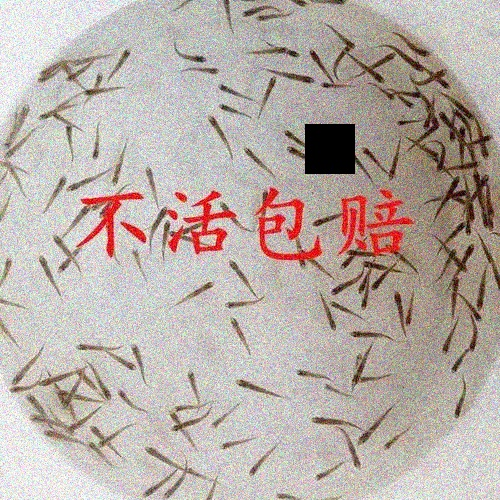fry: (233, 375, 288, 405), (167, 275, 219, 305), (285, 142, 327, 178), (206, 110, 237, 158), (240, 142, 274, 184), (225, 255, 262, 293), (49, 381, 80, 423), (36, 252, 62, 300), (309, 412, 362, 434), (388, 284, 408, 342), (218, 197, 250, 233), (449, 378, 474, 423), (42, 174, 70, 214), (266, 65, 319, 86), (225, 317, 255, 354), (138, 163, 159, 215), (349, 328, 406, 347), (405, 287, 428, 334), (219, 1, 243, 46), (340, 145, 367, 185), (328, 295, 364, 324), (90, 368, 118, 405), (42, 424, 85, 448), (473, 267, 495, 313), (107, 139, 128, 187), (345, 432, 369, 474), (403, 31, 435, 62), (210, 79, 255, 101), (249, 448, 282, 478), (53, 228, 79, 266), (167, 44, 213, 65), (169, 227, 209, 251), (218, 296, 268, 315), (395, 42, 425, 73), (116, 384, 145, 416), (308, 41, 333, 78), (386, 140, 407, 184), (128, 242, 151, 282), (110, 42, 134, 80), (61, 120, 81, 165), (85, 122, 108, 161), (355, 418, 388, 445), (292, 238, 313, 280), (141, 445, 176, 470), (146, 204, 170, 240), (53, 388, 101, 406), (395, 47, 425, 75), (134, 473, 165, 500), (358, 141, 385, 172), (210, 404, 242, 430), (6, 169, 31, 202), (359, 256, 398, 277), (164, 470, 191, 500), (446, 275, 464, 320), (307, 209, 345, 230), (260, 76, 282, 112), (319, 297, 339, 336), (250, 40, 291, 59), (213, 100, 250, 121), (465, 317, 486, 354), (309, 251, 334, 282), (182, 366, 201, 406), (87, 437, 110, 470), (9, 357, 37, 384), (418, 60, 446, 87), (349, 351, 367, 393), (366, 49, 397, 73), (382, 430, 413, 454), (202, 473, 229, 500), (37, 102, 75, 121), (292, 365, 334, 382), (1, 318, 23, 350), (480, 195, 499, 232), (329, 21, 356, 47), (49, 112, 84, 132), (282, 126, 315, 147), (437, 327, 458, 360), (390, 246, 420, 269), (73, 390, 109, 409), (253, 9, 291, 27), (477, 127, 495, 165), (178, 64, 223, 79), (158, 218, 173, 262), (168, 421, 212, 436), (38, 371, 79, 387), (4, 137, 31, 161), (99, 428, 133, 447), (355, 372, 398, 387), (61, 63, 84, 91), (79, 85, 137, 96), (343, 246, 388, 260), (446, 218, 467, 248), (463, 199, 481, 234), (254, 187, 273, 220), (416, 121, 441, 146), (76, 370, 100, 396), (220, 437, 259, 453), (358, 62, 385, 85), (112, 354, 140, 376), (321, 78, 355, 96), (25, 414, 68, 428), (169, 221, 209, 236), (71, 341, 117, 354), (430, 186, 465, 203), (67, 174, 94, 196), (431, 70, 458, 92), (1, 294, 30, 314), (310, 463, 346, 479), (38, 61, 61, 86), (464, 300, 487, 325), (21, 390, 47, 412), (68, 412, 95, 433), (370, 272, 391, 299), (236, 3, 276, 17), (437, 105, 457, 133), (71, 53, 114, 66), (329, 279, 358, 298), (3, 116, 19, 150), (481, 241, 498, 273), (2, 159, 32, 177), (419, 143, 443, 165), (1, 250, 16, 285), (436, 138, 450, 175), (332, 47, 349, 77), (441, 245, 456, 279), (455, 121, 470, 155), (459, 100, 481, 123), (132, 341, 148, 372), (89, 68, 103, 103), (16, 97, 30, 132), (421, 100, 435, 135), (445, 174, 458, 211), (173, 403, 213, 415), (358, 281, 373, 313), (322, 381, 346, 401), (458, 242, 478, 264), (329, 278, 353, 296), (399, 86, 428, 100), (455, 157, 482, 172), (455, 256, 473, 278), (390, 115, 422, 127), (66, 67, 91, 82), (10, 382, 41, 394), (480, 169, 496, 192), (376, 87, 395, 106), (281, 42, 300, 60), (90, 422, 110, 439), (170, 1, 198, 13), (471, 168, 482, 196), (398, 98, 419, 112), (165, 410, 182, 425)
